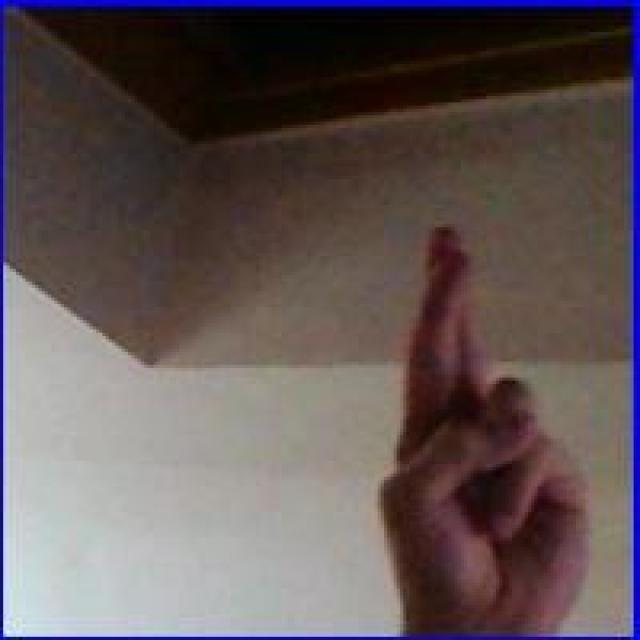R: (376, 218, 603, 630)
